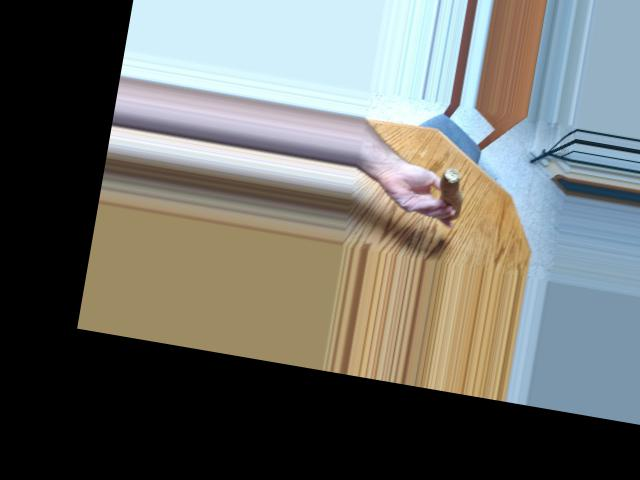sweet_potato: (421, 157, 471, 224)
